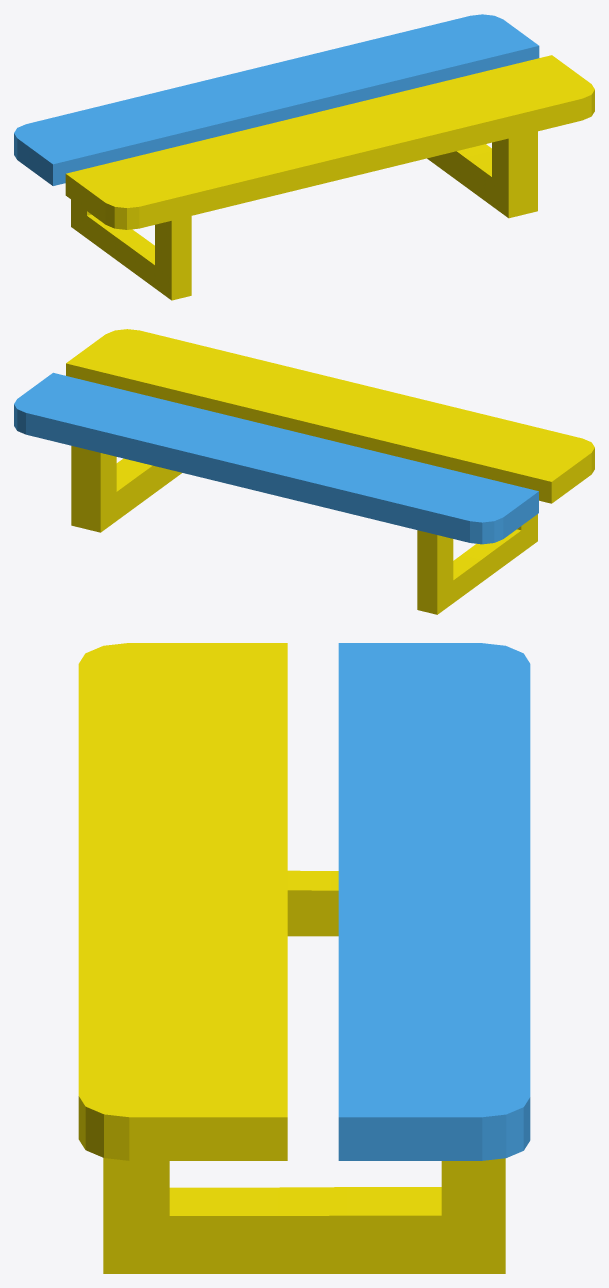
The model's file is PlatformModel.fbx.
3 renders of one model, top to bottom at view 1: azimuth 30°, elevation 25°; view 2: azimuth 150°, elevation 25°; view 3: azimuth 270°, elevation 25°, orthographic. The views are drawn at different scales.
Visible parts, largest first — view 1: Platform; view 2: Platform; view 3: Platform.
Part boxes in pixels (x1,y1,x2,y2): Platform: (14,14,594,300); Platform: (14,329,594,614); Platform: (78,643,530,1273).
Bounding box in the file's own units: 972 × 206 × 391.
Materials: 1 (1 with a texture image).
